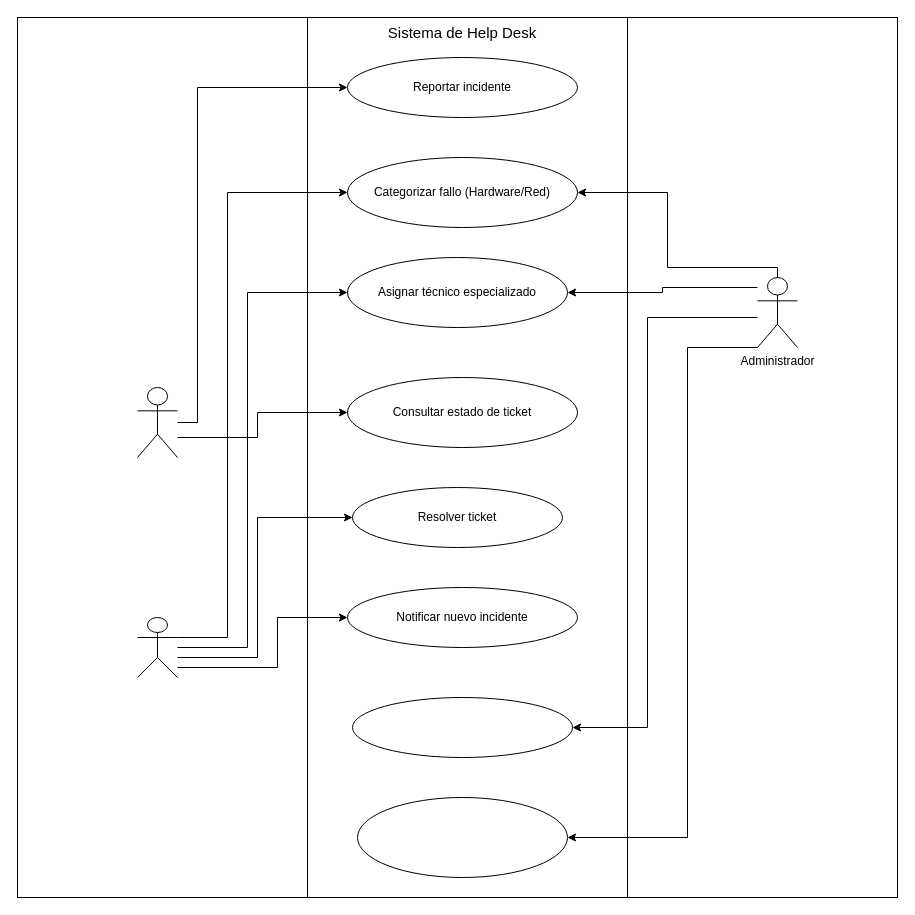
Some shapes in this 915 by 915 pixel diagram are drawn without their labels. The shapes that lost their labels are listed below. From the top down, each one's centre as x and y in pixels, then its label:
At point 157,422: "Usuario".
At point 157,647: "Tecnico".
At point 462,727: "Gestionar técnicos".
At point 462,837: "Ver métricas / reportes".
